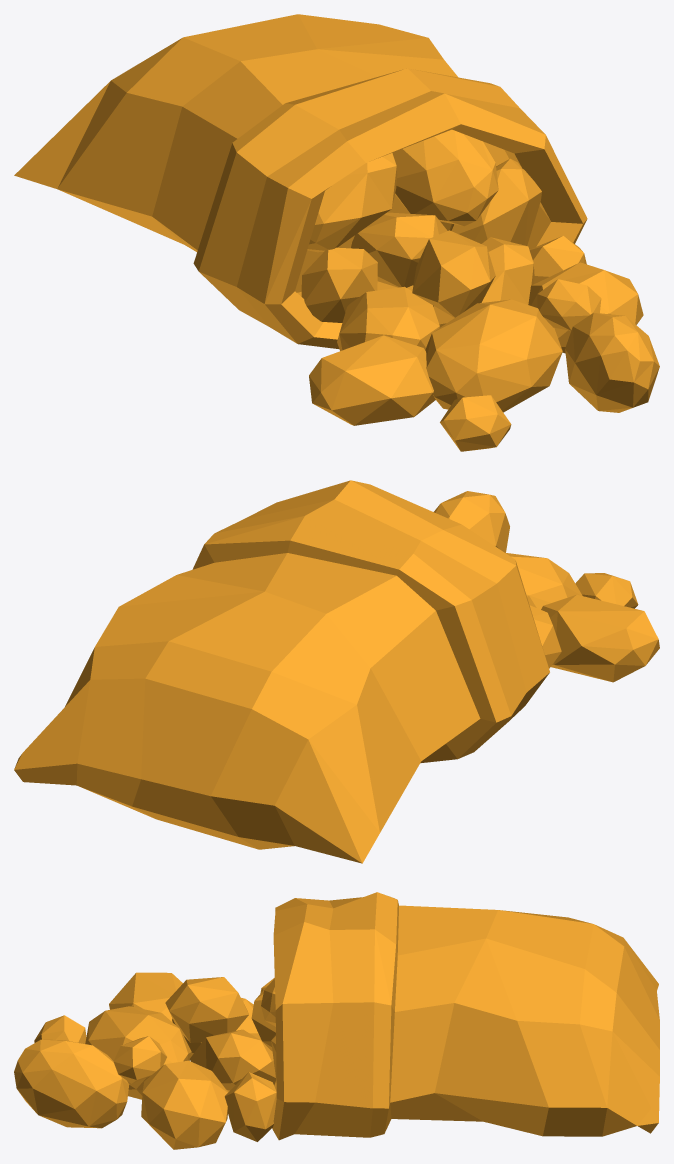
Rendered from SM_Bag_Lying_Open_Potatoes_Farm.fbx.
3 views of the same model, one above another, from view 1: azimuth 30°, elevation 25°; view 2: azimuth 150°, elevation 25°; view 3: azimuth 270°, elevation 25° (orthographic). The views are drawn at different scales.
Visible parts, largest first — view 1: bag-lying-open-potatoes-farm; view 2: bag-lying-open-potatoes-farm; view 3: bag-lying-open-potatoes-farm.
Boxes of the visible parts, x1,y1,x2,y2 form: bag-lying-open-potatoes-farm: (14, 14, 659, 451); bag-lying-open-potatoes-farm: (14, 480, 659, 863); bag-lying-open-potatoes-farm: (14, 892, 659, 1149).
Bounding box in the file's own units: 0.5745 × 0.3444 × 1.05.
